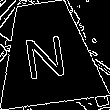N_N: (23, 25, 72, 80)
